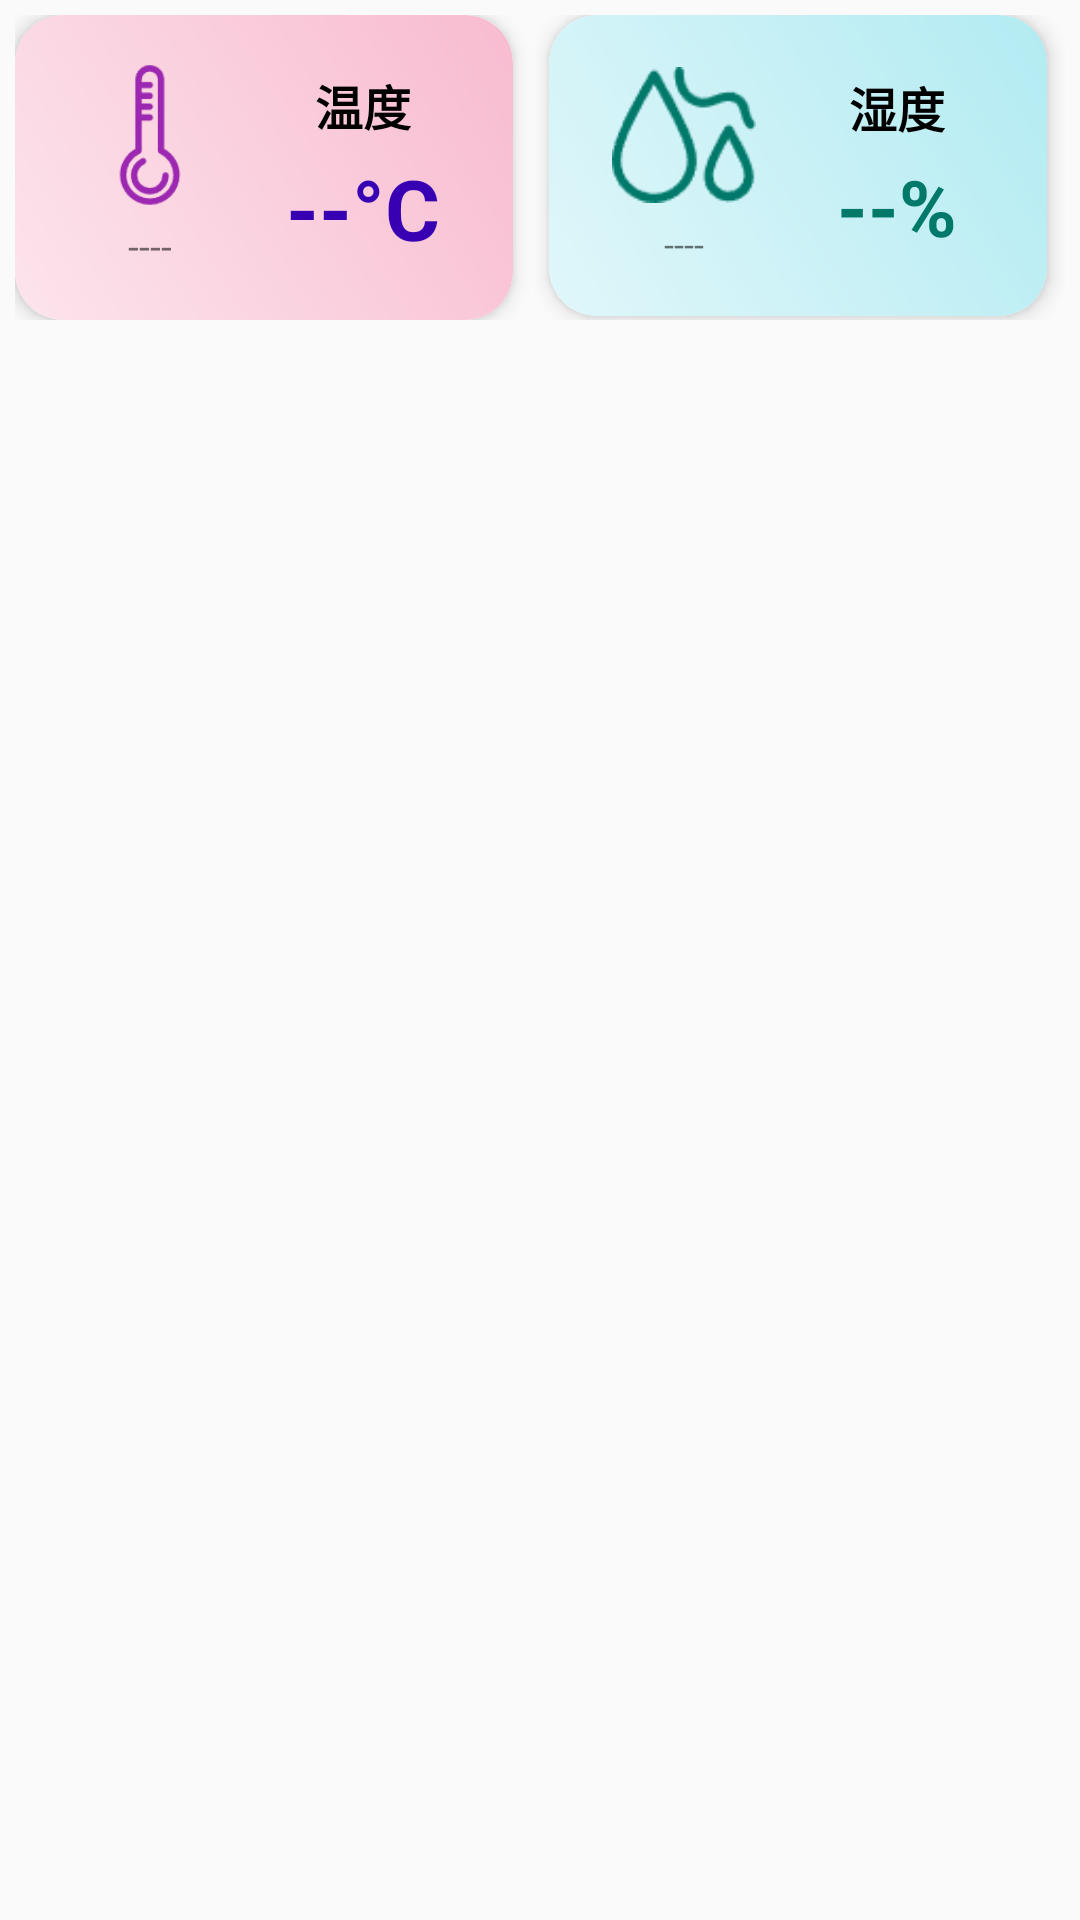

Icon bounding boxes for this 1080x1920 phone screenshot, format region(x1, y1, x2, y2):
humi: region(612, 67, 756, 203)
